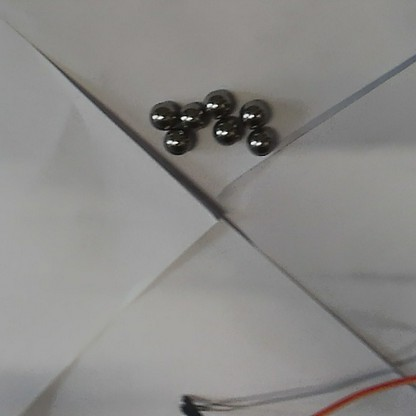ironball: (149, 99, 179, 129), (206, 86, 233, 114), (214, 116, 240, 145), (241, 98, 267, 125), (181, 101, 208, 127), (164, 128, 189, 154), (248, 130, 273, 155)
